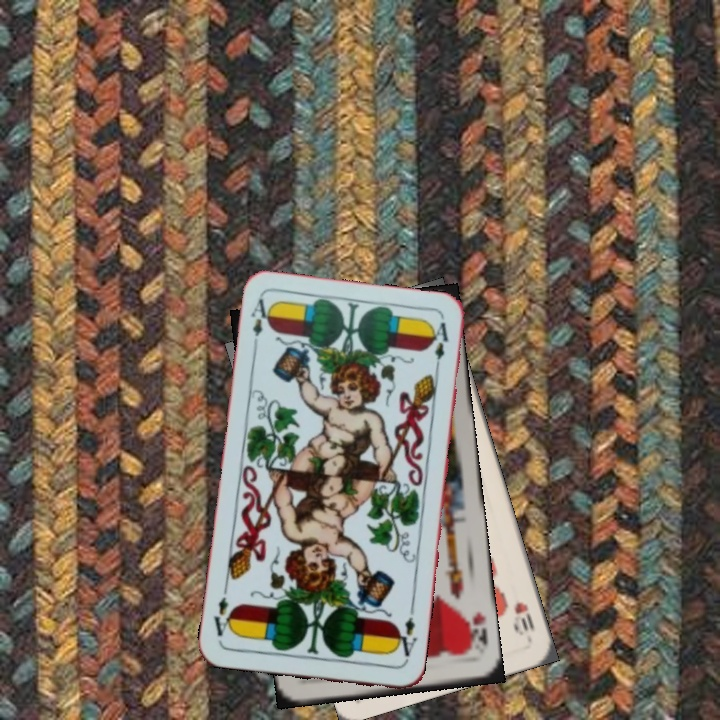EA: (247, 294, 275, 353), (391, 613, 420, 664)
H10: (510, 598, 537, 638)
HK: (461, 607, 490, 653)
